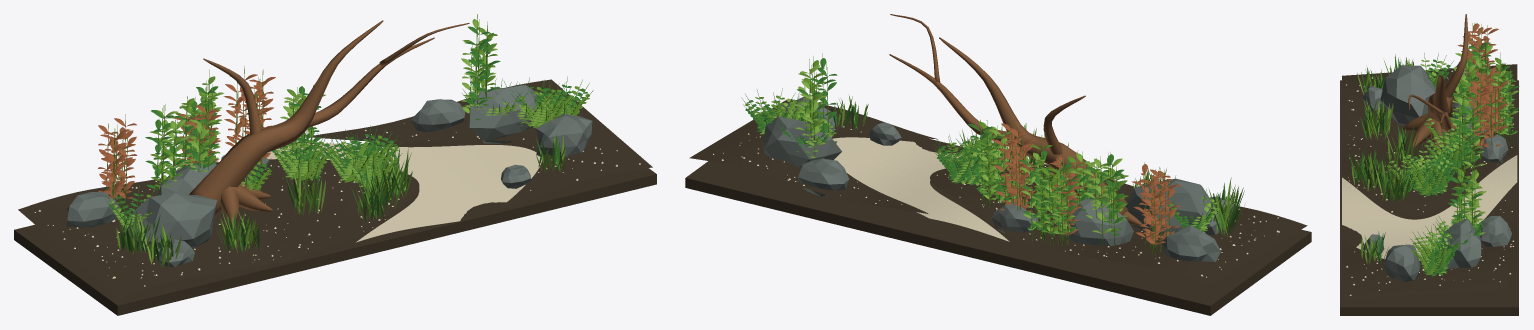
File: hardscape.glb
The picture shows the model from 3 angles, left to right: view 1: azimuth 30°, elevation 25°; view 2: azimuth 150°, elevation 25°; view 3: azimuth 270°, elevation 25°; orthographic projection. The views are drawn at different scales.
Visible parts, largest first — view 1: bed.left, bed.foundation, bed.path, hardscape.wood.angular, bed.right, hardscape.stone.00, hardscape.stone.04, plants.stem.009, plants.stem.015, plants.stem.027, hardscape.stone.05, plants.stem.020 (+36 smaller); view 2: bed.foundation, bed.left, bed.path, bed.right, hardscape.wood.angular, hardscape.stone.00, hardscape.stone.04, plants.stem.015, plants.stem.027, hardscape.stone.01, plants.stem.020, plants.stem.009 (+15 smaller); view 3: bed.left, bed.right, bed.foundation, bed.path, hardscape.wood.angular, hardscape.stone.00, plants.stem.020, plants.stem.027, plants.stem.021, hardscape.stone.04, hardscape.stone.05, plants.stem.016 (+37 smaller).
Boxes of the visible parts, x1,y1,x2,y2 form: bed.left: (18, 159, 419, 297); bed.foundation: (14, 140, 656, 315); bed.path: (266, 142, 541, 242); hardscape.wood.angular: (189, 20, 469, 226); bed.right: (312, 79, 652, 208); hardscape.stone.00: (128, 193, 217, 252); hardscape.stone.04: (468, 84, 537, 143); plants.stem.009: (145, 104, 194, 195); plants.stem.015: (98, 114, 136, 209); plants.stem.027: (461, 14, 500, 134); hardscape.stone.05: (535, 114, 592, 156); plants.stem.020: (223, 66, 275, 176); bed.foundation: (685, 133, 1311, 315); bed.left: (930, 164, 1307, 284); bed.path: (832, 137, 1048, 241); bed.right: (689, 99, 937, 213); hardscape.wood.angular: (889, 14, 1141, 225); hardscape.stone.00: (1125, 178, 1220, 234); hardscape.stone.04: (763, 116, 841, 167); plants.stem.015: (1131, 162, 1181, 255); plants.stem.027: (794, 53, 837, 159); hardscape.stone.01: (1065, 197, 1133, 245); plants.stem.020: (991, 118, 1036, 212); plants.stem.009: (1082, 152, 1128, 246); bed.left: (1342, 64, 1517, 215); bed.right: (1342, 182, 1517, 300); bed.foundation: (1340, 80, 1518, 315); bed.path: (1342, 155, 1517, 260); hardscape.wood.angular: (1403, 14, 1469, 154); hardscape.stone.00: (1380, 65, 1435, 125); plants.stem.020: (1468, 64, 1509, 159); plants.stem.027: (1446, 150, 1486, 236); plants.stem.021: (1449, 96, 1486, 174); hardscape.stone.04: (1441, 219, 1481, 268); hardscape.stone.05: (1384, 244, 1420, 281); plants.stem.016: (1491, 52, 1519, 144).
Bounding box in the file's own units: 0.882 × 0.272 × 0.2953.
